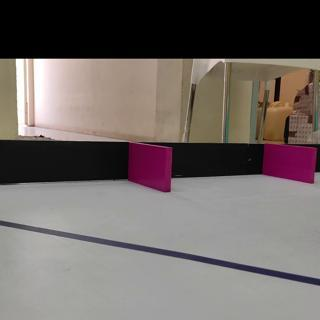xparking: (133, 145, 172, 192), (268, 144, 316, 182)
